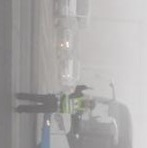person: (14, 85, 99, 117)
